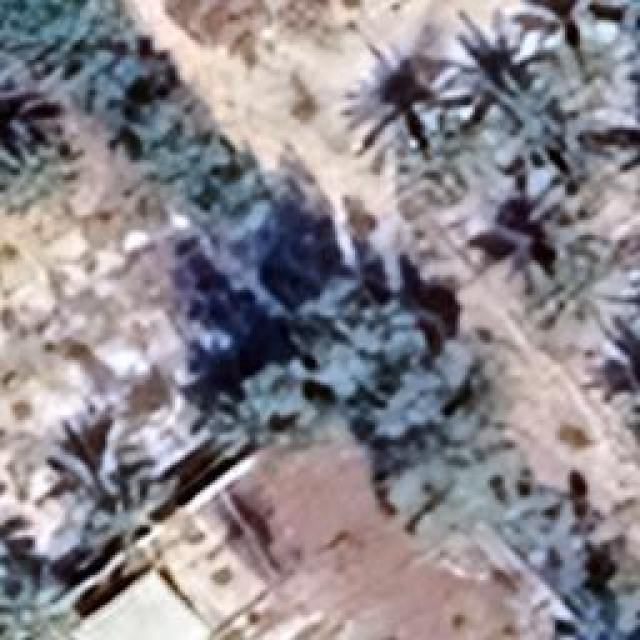PalmTree: (65, 85, 595, 613), (528, 232, 638, 358), (89, 54, 508, 85), (401, 103, 518, 212), (41, 422, 164, 522), (524, 19, 638, 122), (369, 59, 459, 149), (0, 130, 80, 220), (0, 560, 80, 638), (609, 344, 640, 458), (608, 542, 638, 638), (593, 0, 640, 40)
